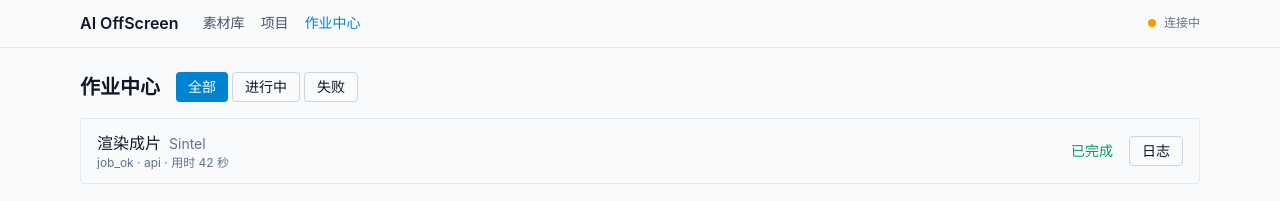
Test: job center › says so when nothing matches
Check: the list item is shown, box 80,118 -> 1200,184
Click the button "失败" at (331,87), box 304,72 -> 358,102
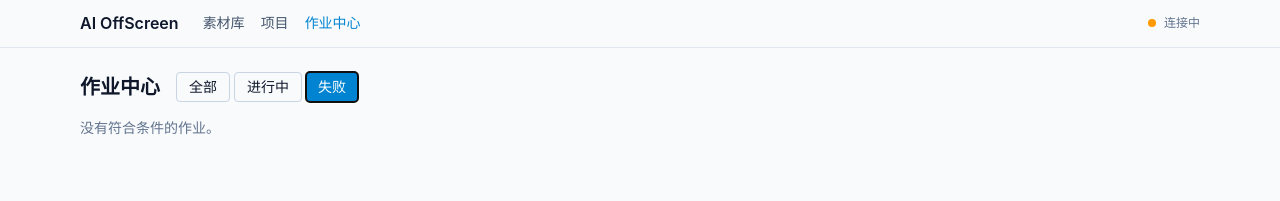
Check: the text "没有符合条件的作业。" is shown, box 80,119 -> 220,136
